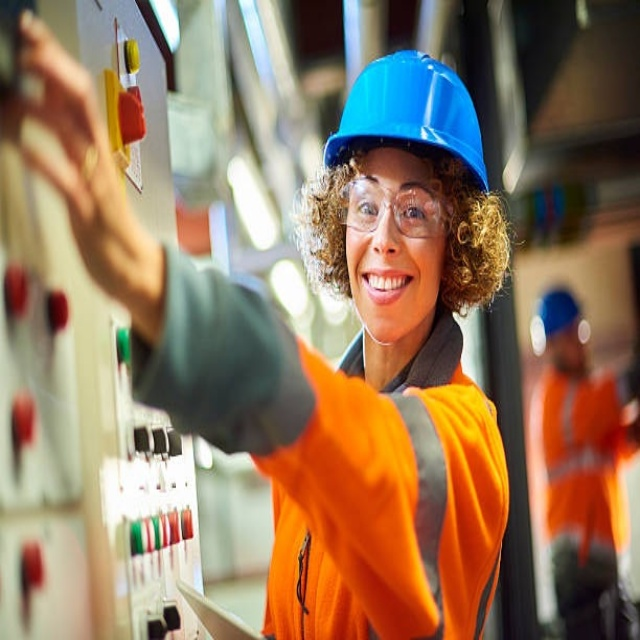Gafas: (339, 173, 444, 243)
Sin_guantes: (18, 11, 148, 293)
Sin_mascara: (352, 256, 421, 325)
